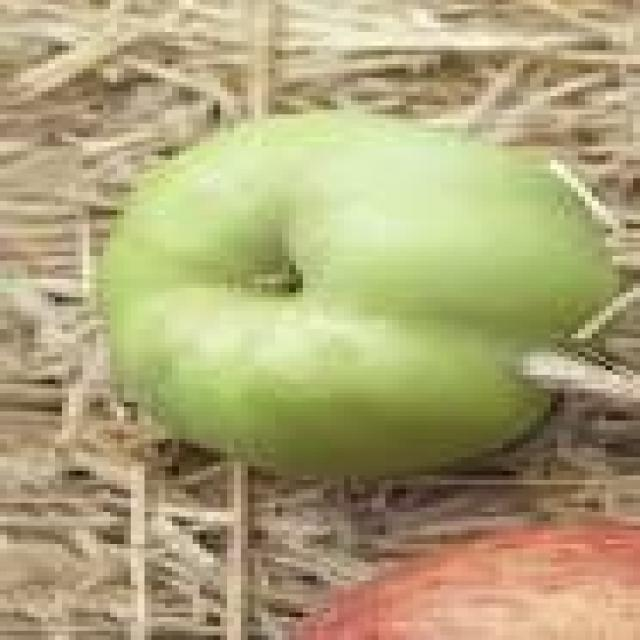apple: (97, 110, 619, 479), (296, 526, 639, 639)
